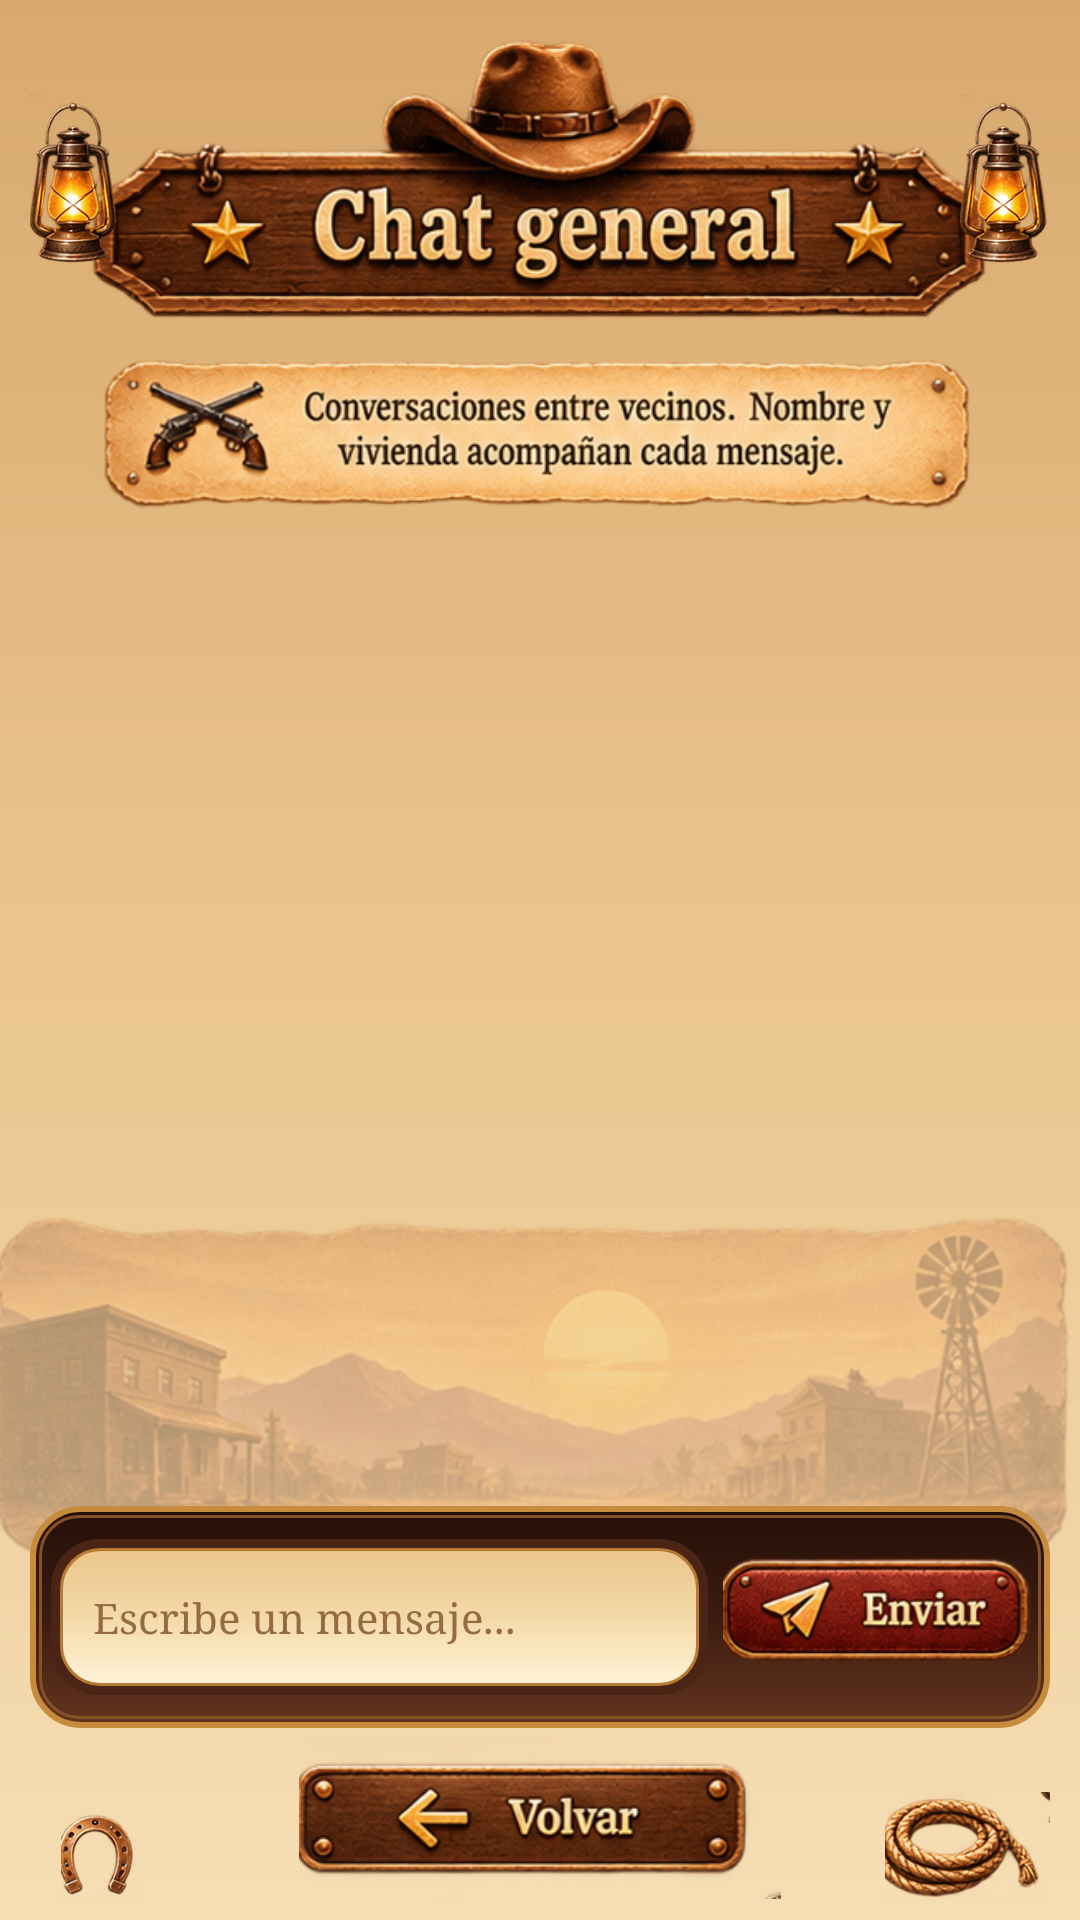

Screen size 1080 × 1920. Icon name, then its box in pixels as detection(x1, y1, x2, y2):
Adorno de herradura: detection(61, 1815, 133, 1895)
Adorno de lazo: detection(885, 1792, 1050, 1897)
Farol del oeste: detection(30, 103, 120, 273), detection(960, 103, 1047, 273)
